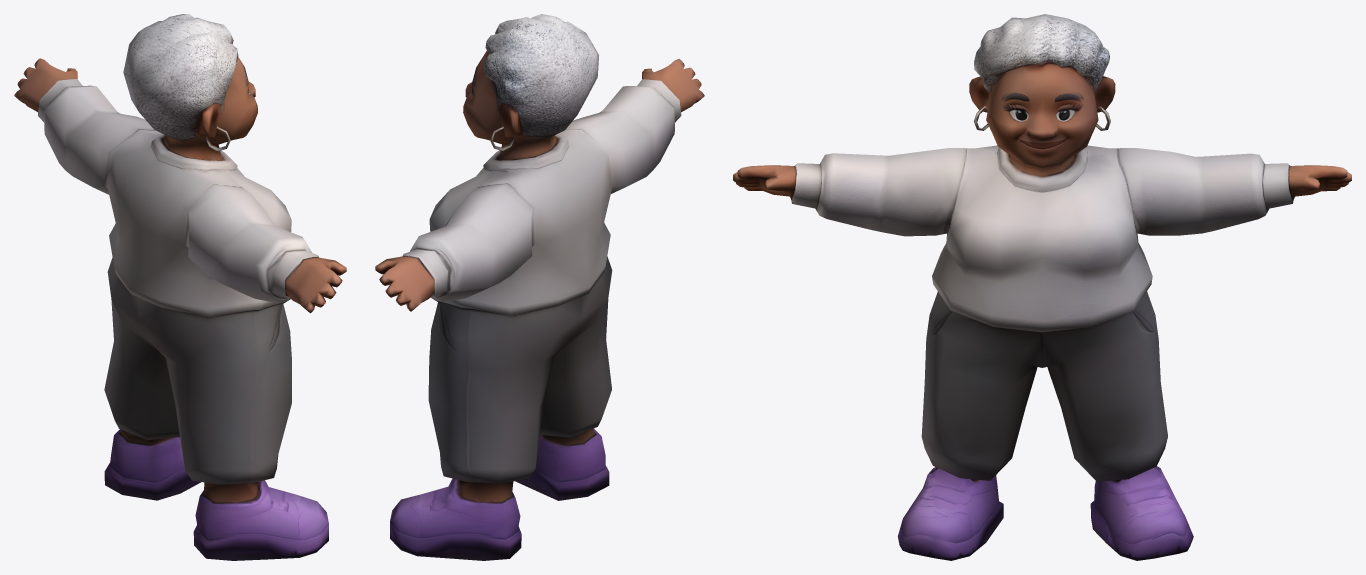
The picture shows the model from 3 angles, left to right: view 1: azimuth 30°, elevation 25°; view 2: azimuth 150°, elevation 25°; view 3: azimuth 270°, elevation 25°; orthographic projection. The views are drawn at different scales.
Parts seen in each view (by area): view 1: tripo_node_4abb4124-05c9-40da-9932-4a22d114aec4; view 2: tripo_node_4abb4124-05c9-40da-9932-4a22d114aec4; view 3: tripo_node_4abb4124-05c9-40da-9932-4a22d114aec4.
Part boxes in pixels (left/top/right/bottom): tripo_node_4abb4124-05c9-40da-9932-4a22d114aec4: left=14, top=14, right=346, bottom=560; tripo_node_4abb4124-05c9-40da-9932-4a22d114aec4: left=375, top=14, right=704, bottom=560; tripo_node_4abb4124-05c9-40da-9932-4a22d114aec4: left=733, top=14, right=1351, bottom=560.
Size of the model in its own units: 0.272 by 0.8931 by 0.9995.
Materials: 1 (1 with a texture image).
